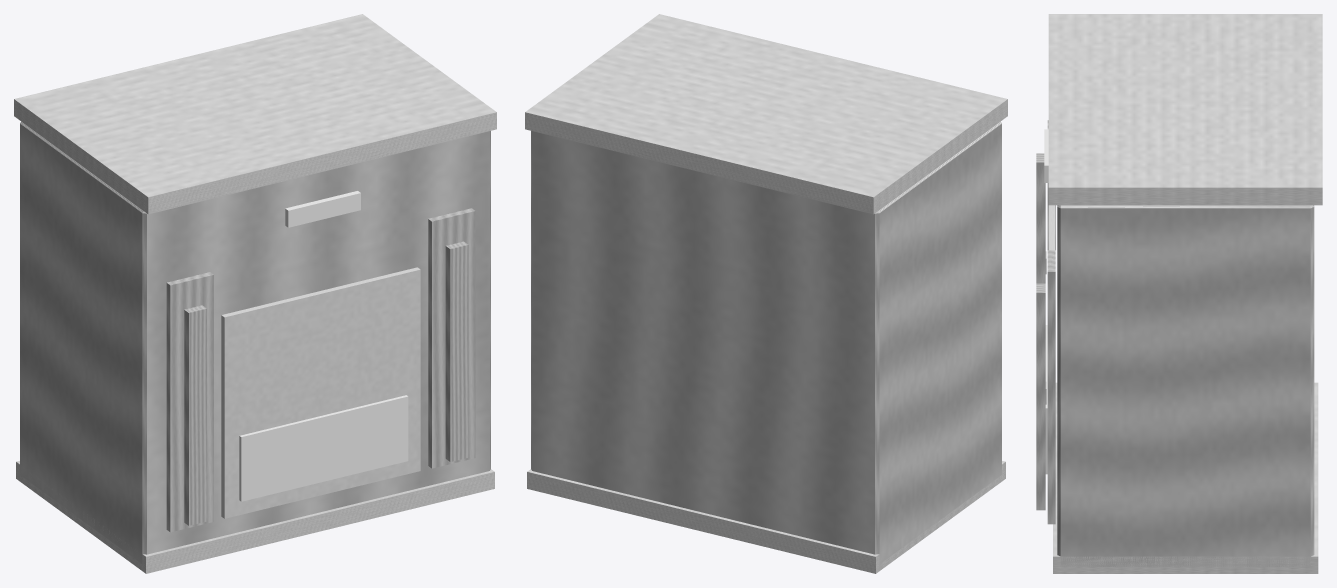
Rendered from farmhousefireplacestand.obj.
3 renders of one model, left to right at view 1: azimuth 30°, elevation 25°; view 2: azimuth 150°, elevation 25°; view 3: azimuth 270°, elevation 25°, orthographic. The views are drawn at different scales.
Parts seen in each view (by area): view 1: Case, Trim, Black, Wood, Heat, Display; view 2: Case, Trim; view 3: Case, Trim, Wood, Heat.
Part boxes in pixels (<box>): Case: <box>20,121,490,563</box>; Trim: <box>14,14,496,573</box>; Black: <box>221,267,420,518</box>; Wood: <box>166,208,475,532</box>; Heat: <box>239,395,408,501</box>; Display: <box>285,191,360,227</box>; Case: <box>531,121,1001,563</box>; Trim: <box>525,14,1007,573</box>; Case: <box>1057,205,1314,566</box>; Trim: <box>1045,14,1322,573</box>; Wood: <box>1036,120,1055,524</box>; Heat: <box>1045,325,1047,474</box>.
Bounding box in the file's own units: 0.96 × 0.995 × 0.669.
